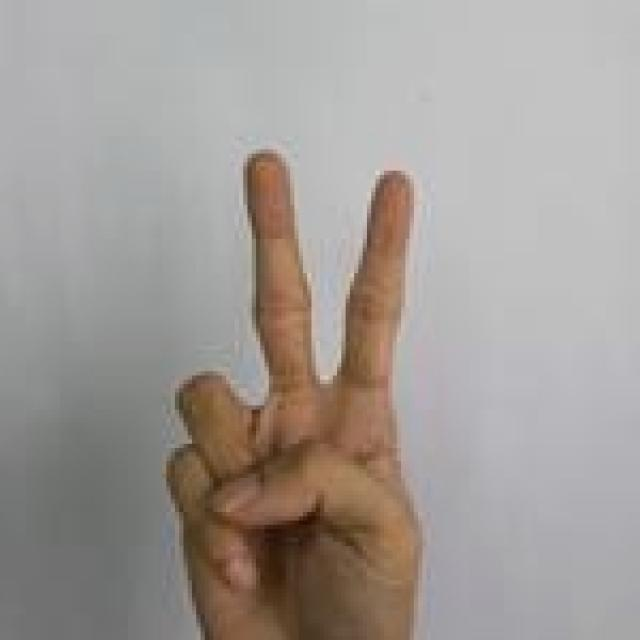V: (148, 145, 434, 640)
